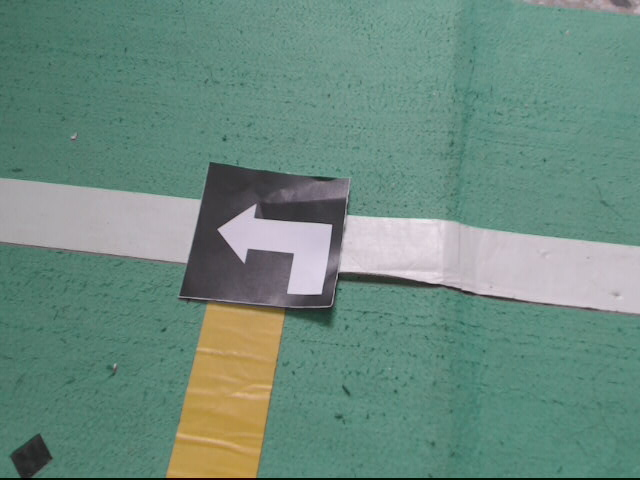left: (175, 159, 351, 313)
